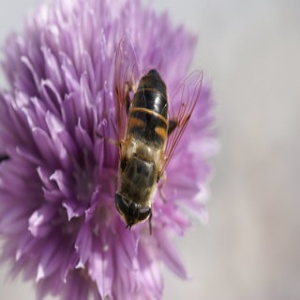bee: (112, 32, 204, 240)
